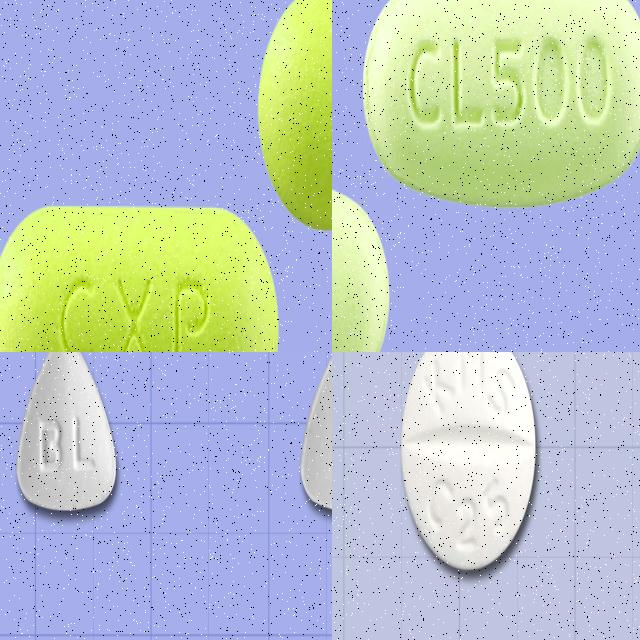Baracle -1mg: (13, 352, 120, 515), (297, 352, 332, 520)
Clad: (358, 0, 640, 215)
Clatwo: (0, 195, 284, 352), (258, 0, 332, 231)
Cyspec: (400, 352, 537, 573)
